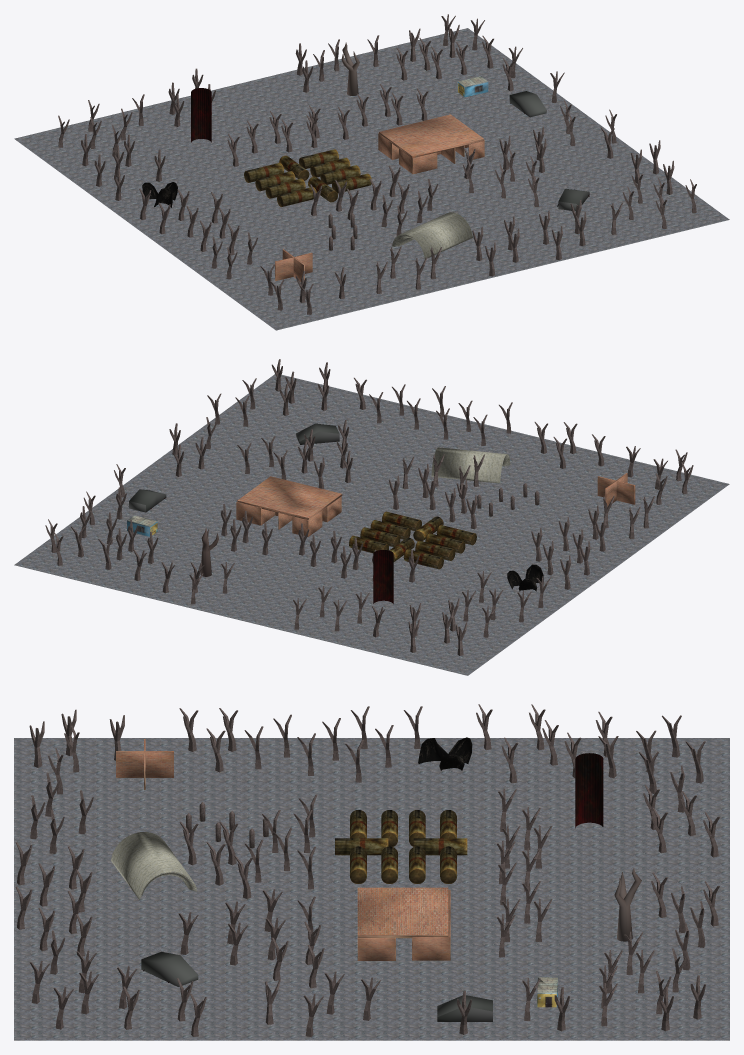
File: map.obj
3 views of the same model, one above another, from view 1: azimuth 30°, elevation 25°; view 2: azimuth 150°, elevation 25°; view 3: azimuth 270°, elevation 25° (orthographic). The views are drawn at different scales.
Visible parts, largest first — view 1: Plane_Plane.001, Cube_Cube.026_Cube_Cube.029, Cylinder.009, Cylinder, Cube_Cube.002, Cube.001_Cube.002, Circle, Cube_Cube.000; view 2: Plane_Plane.001, Cube_Cube.026_Cube_Cube.029, Cylinder.009, Cylinder, Cube_Cube.003, Cube.001_Cube.002, Cube_Cube.002; view 3: Plane_Plane.001, Cube_Cube.026_Cube_Cube.029, Cylinder.009, Cylinder, Cube_Cube.001, Cube_Cube.003, Cube_Cube.002, Circle, Cube_Cube.016, Cube_Cube.025_Cube_Cube.028, Cylinder.025, Cylinder.024 (+6 smaller).
Boxes of the visible parts, box(x1,y1,x2,y2) form: Plane_Plane.001: box(14, 28, 729, 330); Cube_Cube.026_Cube_Cube.029: box(379, 114, 483, 158); Cylinder.009: box(392, 212, 472, 259); Cylinder: box(191, 88, 211, 142); Cube_Cube.002: box(509, 91, 546, 117); Cube.001_Cube.002: box(275, 252, 312, 280); Circle: box(341, 42, 359, 95); Cube_Cube.000: box(457, 76, 488, 97); Plane_Plane.001: box(14, 374, 729, 675); Cube_Cube.026_Cube_Cube.029: box(237, 476, 342, 519); Cylinder.009: box(431, 447, 510, 483); Cylinder: box(373, 550, 393, 603); Cube_Cube.003: box(296, 423, 339, 444); Cube.001_Cube.002: box(597, 476, 635, 504); Cube_Cube.002: box(129, 489, 166, 512); Plane_Plane.001: box(14, 738, 729, 1040); Cube_Cube.026_Cube_Cube.029: box(357, 887, 448, 938); Cylinder.009: box(111, 832, 197, 899); Cylinder: box(575, 753, 603, 828); Cube_Cube.001: box(116, 751, 173, 777); Cube_Cube.003: box(141, 951, 198, 986); Cube_Cube.002: box(437, 995, 492, 1021); Circle: box(614, 868, 641, 941); Cube_Cube.016: box(412, 936, 450, 960); Cube_Cube.025_Cube_Cube.028: box(358, 938, 395, 960); Cylinder.025: box(335, 838, 388, 855); Cylinder.024: box(413, 838, 467, 855).
Bounding box in the file's own units: 4096 × 522 × 4096.
